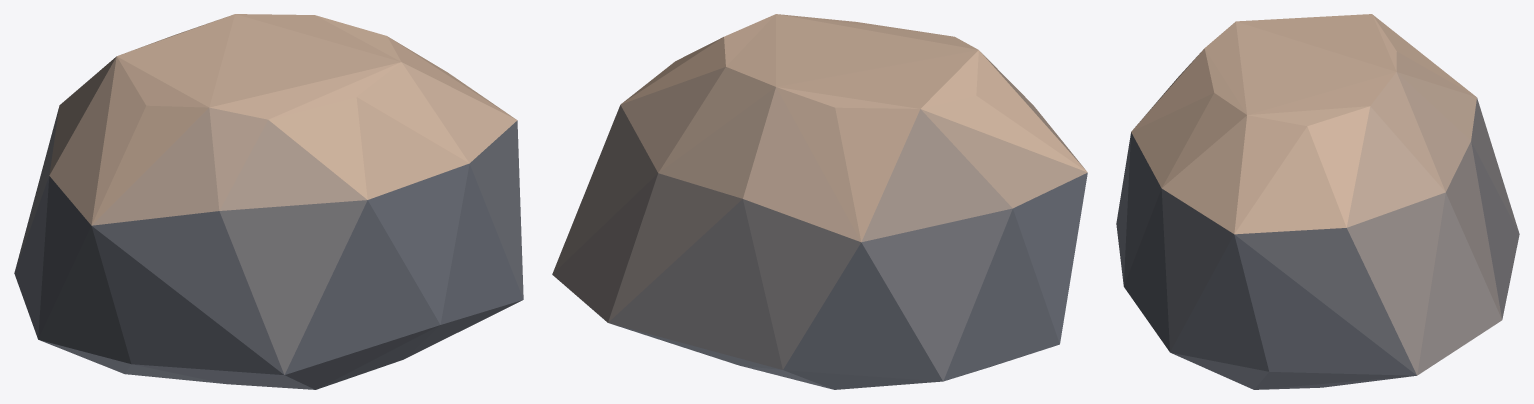
Rendered from rock_medium.fbx.
3 views of the same model, side by side, from view 1: azimuth 30°, elevation 25°; view 2: azimuth 150°, elevation 25°; view 3: azimuth 270°, elevation 25° (orthographic). The views are drawn at different scales.
Parts seen in each view (by area): view 1: rock_medium; view 2: rock_medium; view 3: rock_medium.
Boxes of the visible parts, x1,y1,x2,y2 form: rock_medium: (14, 14, 523, 389); rock_medium: (552, 14, 1087, 389); rock_medium: (1116, 14, 1519, 389).
Size of the model in its own units: 1.56 by 0.92 by 1.33.
